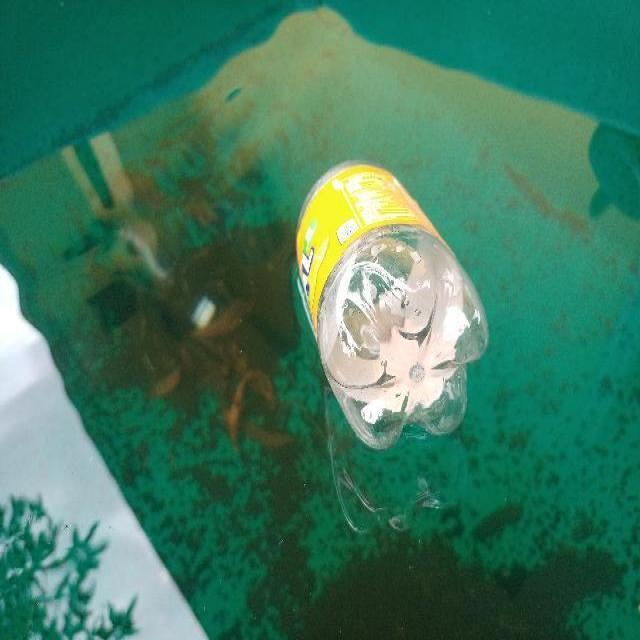Bottle: (278, 152, 497, 460)
